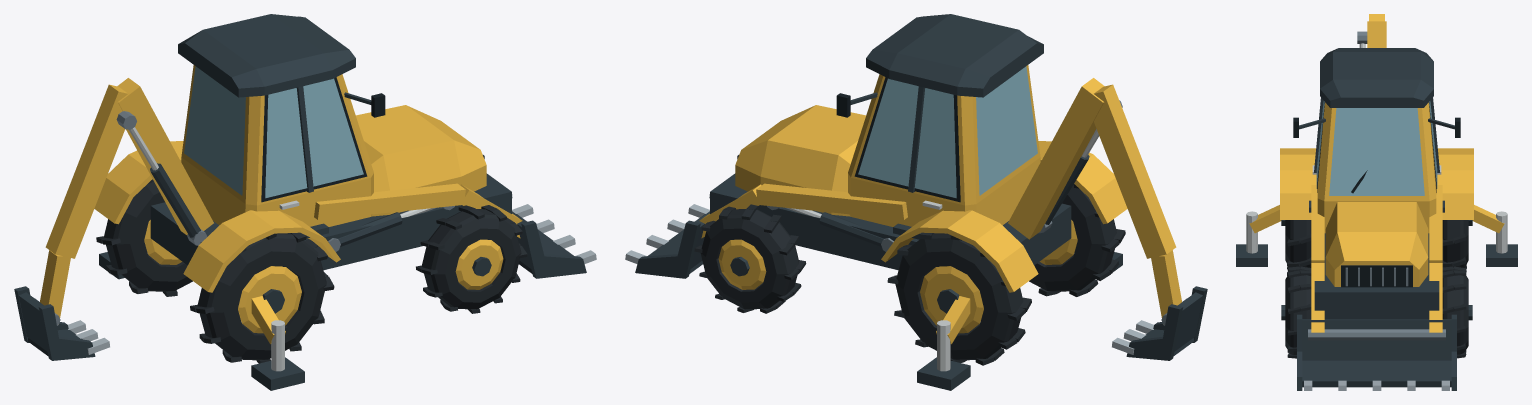
File: b07_backhoe_loader.glb
3 views of the same model, side by side, from view 1: azimuth 30°, elevation 25°; view 2: azimuth 150°, elevation 25°; view 3: azimuth 270°, elevation 25° (orthographic). The views are drawn at different scales.
Parts seen in each view (by area): view 1: b07_backhoe_loader; view 2: b07_backhoe_loader; view 3: b07_backhoe_loader.
Boxes of the visible parts, <box> form: b07_backhoe_loader: <box>14,14,596,390</box>; b07_backhoe_loader: <box>625,14,1207,390</box>; b07_backhoe_loader: <box>1236,14,1517,390</box>.
Bounding box in the file's own units: 5.88 × 2.93 × 3.34.
